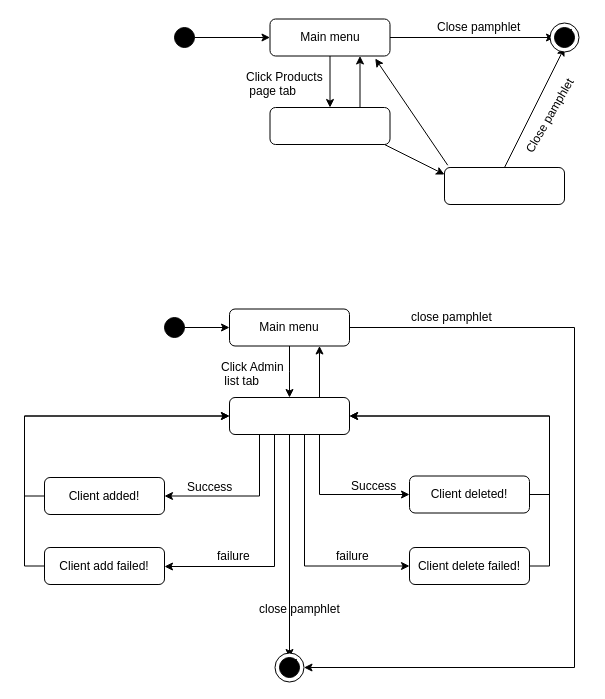
The diagram is 605 pixels wide and 699 high, and some of its shapes have lost their labels. Each missing label, with the box of its shape:
Admin login page -See list: (228, 396, 350, 434)
Products: (269, 106, 390, 144)
Purchase: (444, 166, 564, 204)
